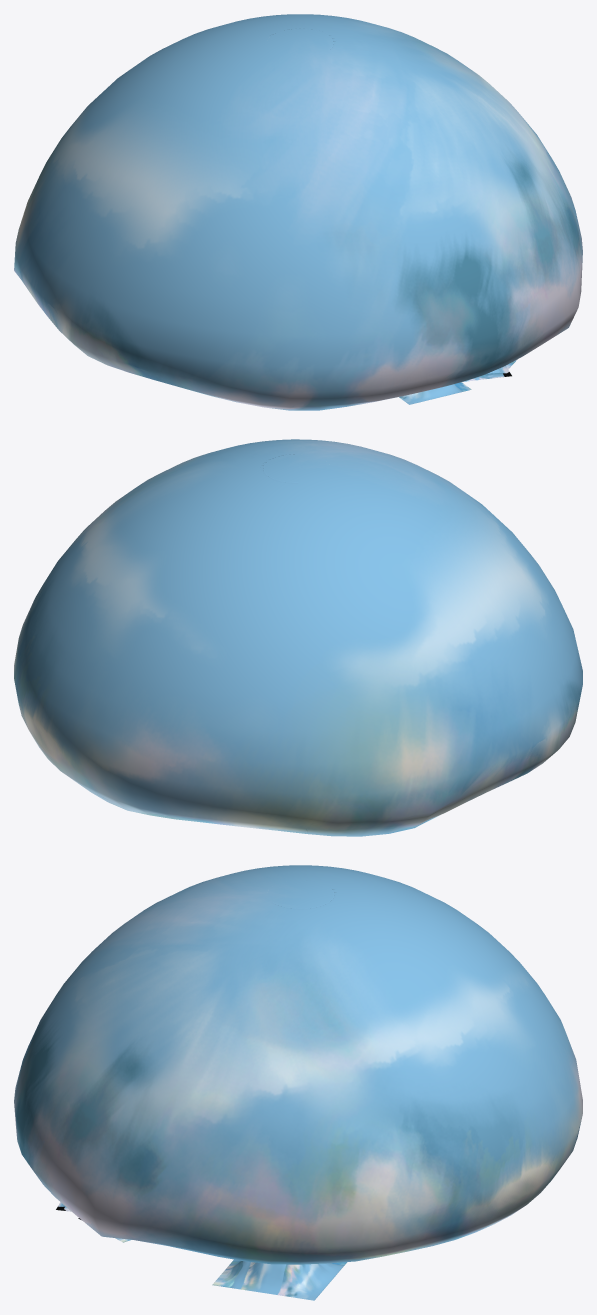
The model's file is clock_tower_holi_version_sgv_studio (1).glb.
3 renders of one model, top to bottom at view 1: azimuth 30°, elevation 25°; view 2: azimuth 150°, elevation 25°; view 3: azimuth 270°, elevation 25°, orthographic.
Visible parts, largest first — view 1: sphere, Landscape; view 2: sphere; view 3: sphere, Landscape_8.
Boxes of the visible parts, <box> form: sphere: <box>14,14,582,410</box>; Landscape: <box>399,382,471,404</box>; sphere: <box>14,439,582,836</box>; sphere: <box>14,865,582,1264</box>; Landscape_8: <box>212,1259,347,1300</box>.
Size of the model in its own units: 56.37 by 31.4 by 55.93.
Materials: 53 (47 with a texture image).
